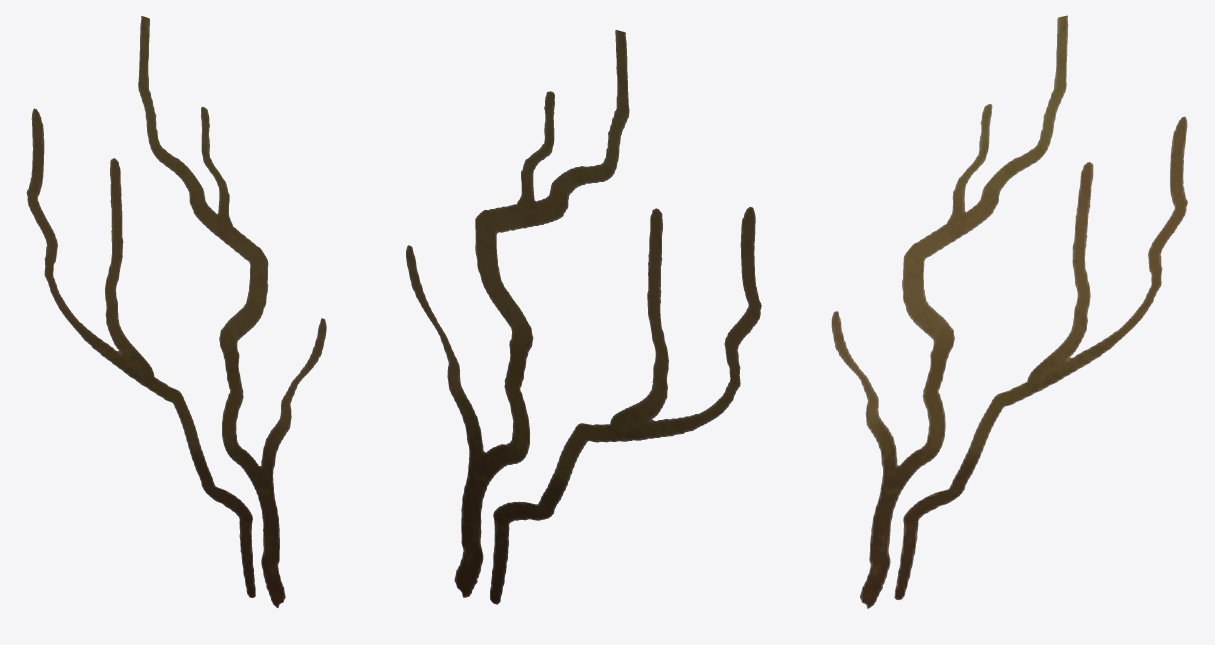
File: branch1.fbx
3 renders of one model, left to right at view 1: azimuth 30°, elevation 25°; view 2: azimuth 210°, elevation 25°; view 3: azimuth 270°, elevation 25°, orthographic. The views are drawn at different scales.
Parts seen in each view (by area): view 1: branch1; view 2: branch1; view 3: branch1.
Part boxes in pixels (box(x1,y1,x2,y2)): branch1: box(26, 16, 326, 607); branch1: box(406, 30, 761, 604); branch1: box(831, 15, 1187, 608).
Bounding box in the file's own units: 215 × 755 × 459.
